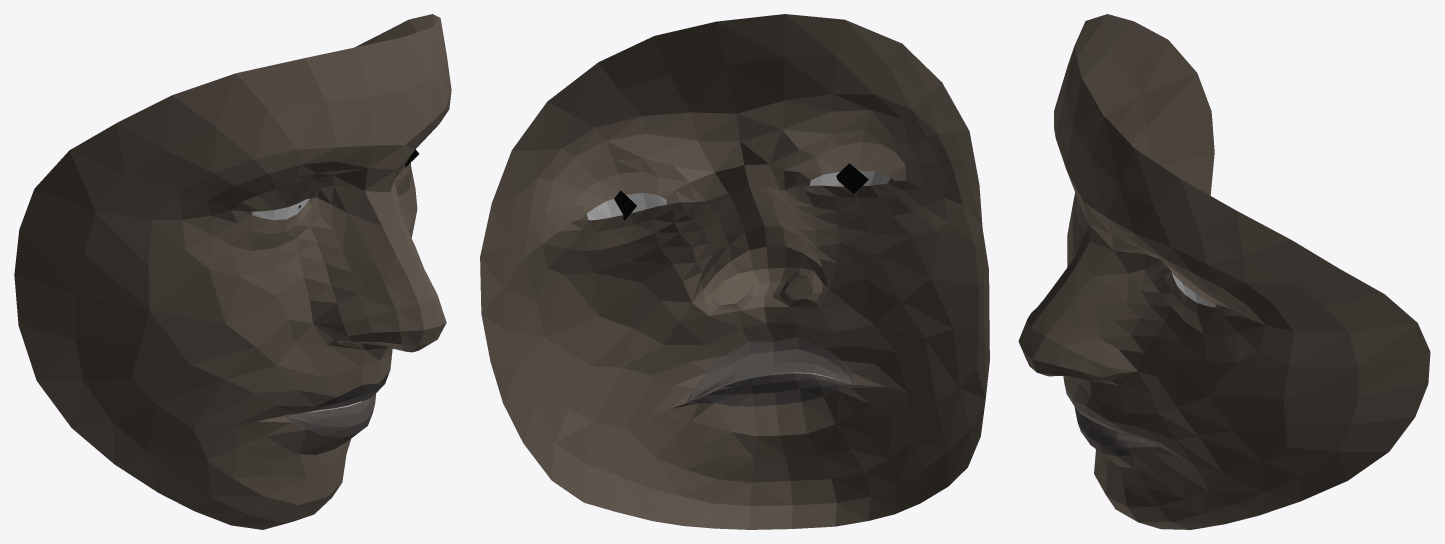
Rendered from frame_00137.obj.
3 renders of one model, left to right at view 1: azimuth 30°, elevation 25°; view 2: azimuth 150°, elevation 25°; view 3: azimuth 270°, elevation 25°, orthographic. The views are drawn at different scales.
Visible parts, largest first — view 1: face_model_with_iris; view 2: face_model_with_iris; view 3: face_model_with_iris.
Part boxes in pixels (x1,y1,x2,y2): face_model_with_iris: (14,14,451,529); face_model_with_iris: (480,14,989,529); face_model_with_iris: (1018,14,1430,529).
Size of the model in its own units: 0.5007 by 0.542 by 0.4386.
